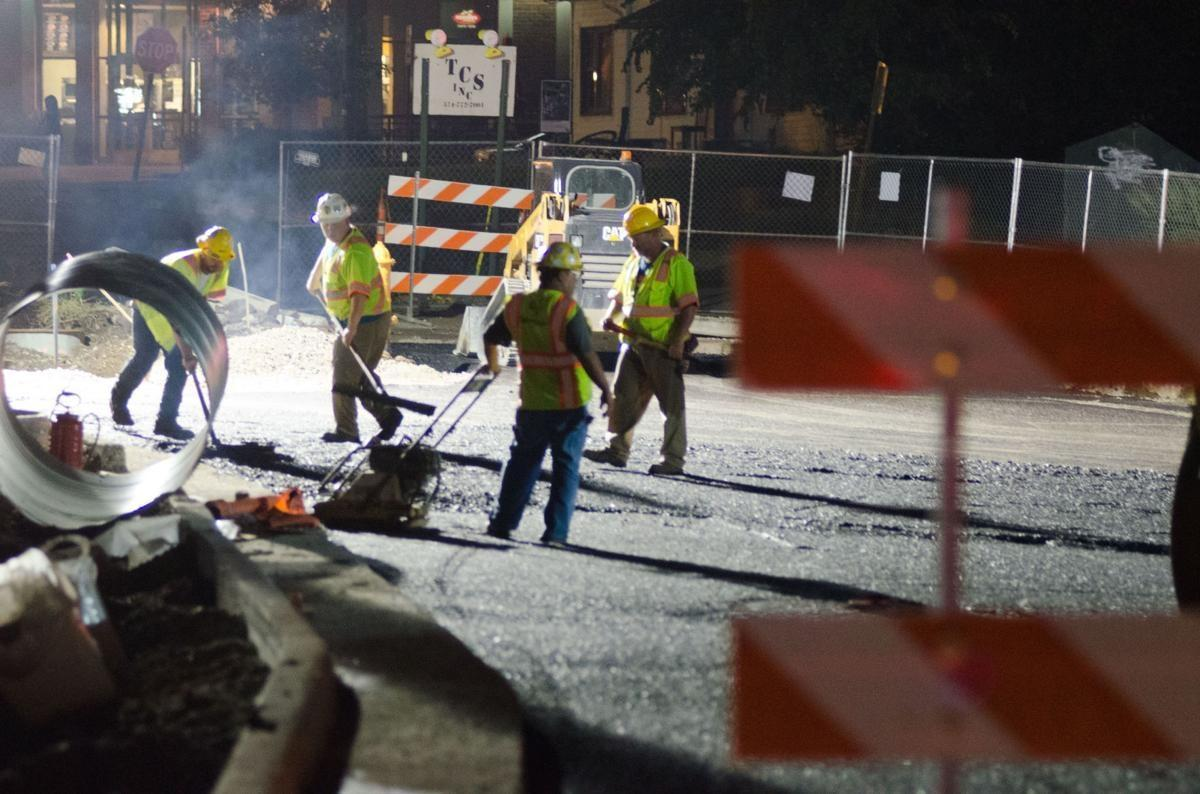helmet: (307, 189, 362, 247), (194, 222, 243, 279), (612, 205, 670, 252)
person: (479, 234, 609, 552), (117, 214, 239, 456), (309, 182, 417, 438), (609, 195, 703, 484)
vest: (497, 284, 602, 422), (304, 245, 399, 341), (616, 255, 707, 345)
